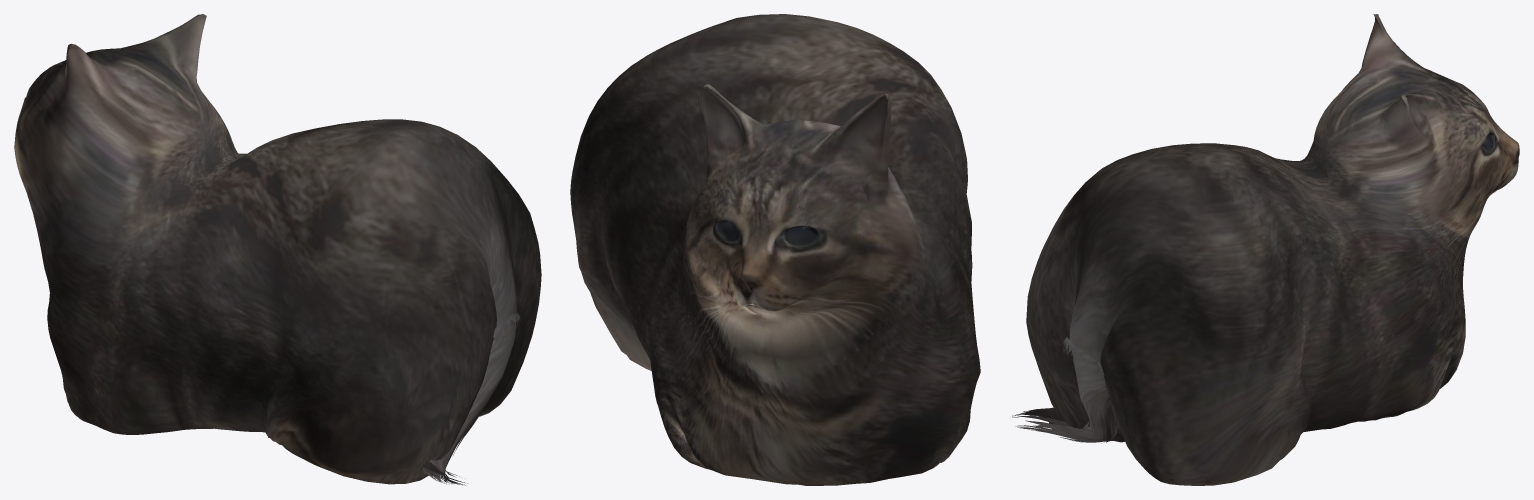
File: oiiaaiia.fbx
3 views of the same model, side by side, from view 1: azimuth 30°, elevation 25°; view 2: azimuth 150°, elevation 25°; view 3: azimuth 270°, elevation 25° (orthographic). The views are drawn at different scales.
Parts seen in each view (by area): view 1: Muchkin1.002; view 2: Muchkin1.002; view 3: Muchkin1.002.
Boxes of the visible parts, x1=… form: Muchkin1.002: x1=14, y1=14, x2=541, y2=485; Muchkin1.002: x1=570, y1=14, x2=980, y2=485; Muchkin1.002: x1=1012, y1=14, x2=1519, y2=485.
Size of the model in its own units: 35.86 by 31.06 by 42.05.
1 material, 1 textured.
